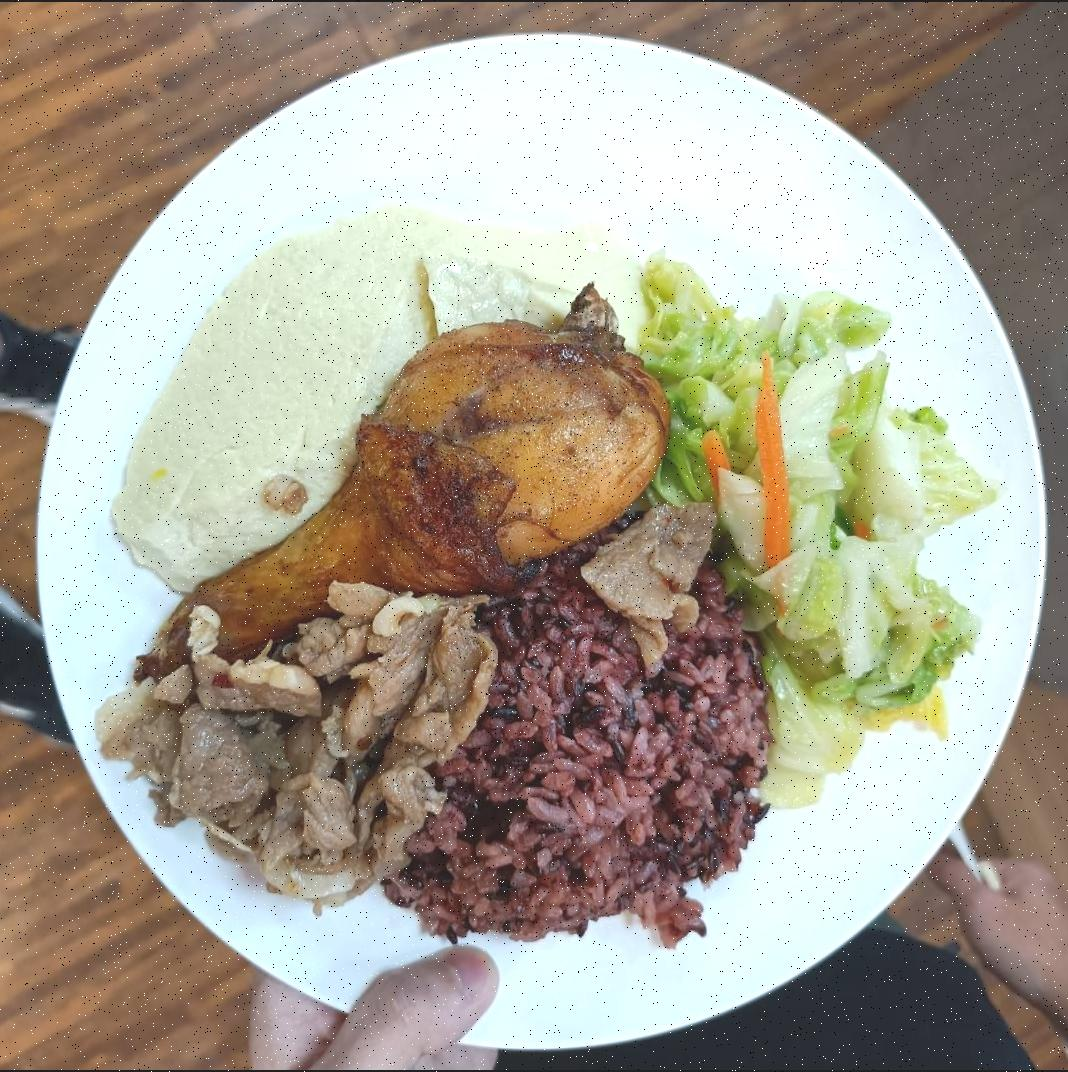garlic white meat: (100, 582, 494, 911)
plate: (47, 22, 1042, 1062)
purple rice: (397, 564, 767, 940)
side dish: (113, 200, 652, 588), (654, 264, 987, 805)
small grilled chicken leg: (150, 300, 670, 690)
